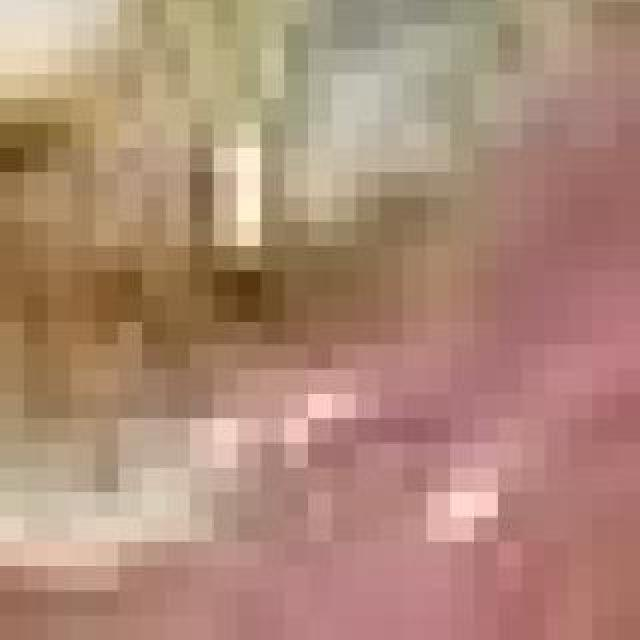cavities: (0, 0, 496, 570)
